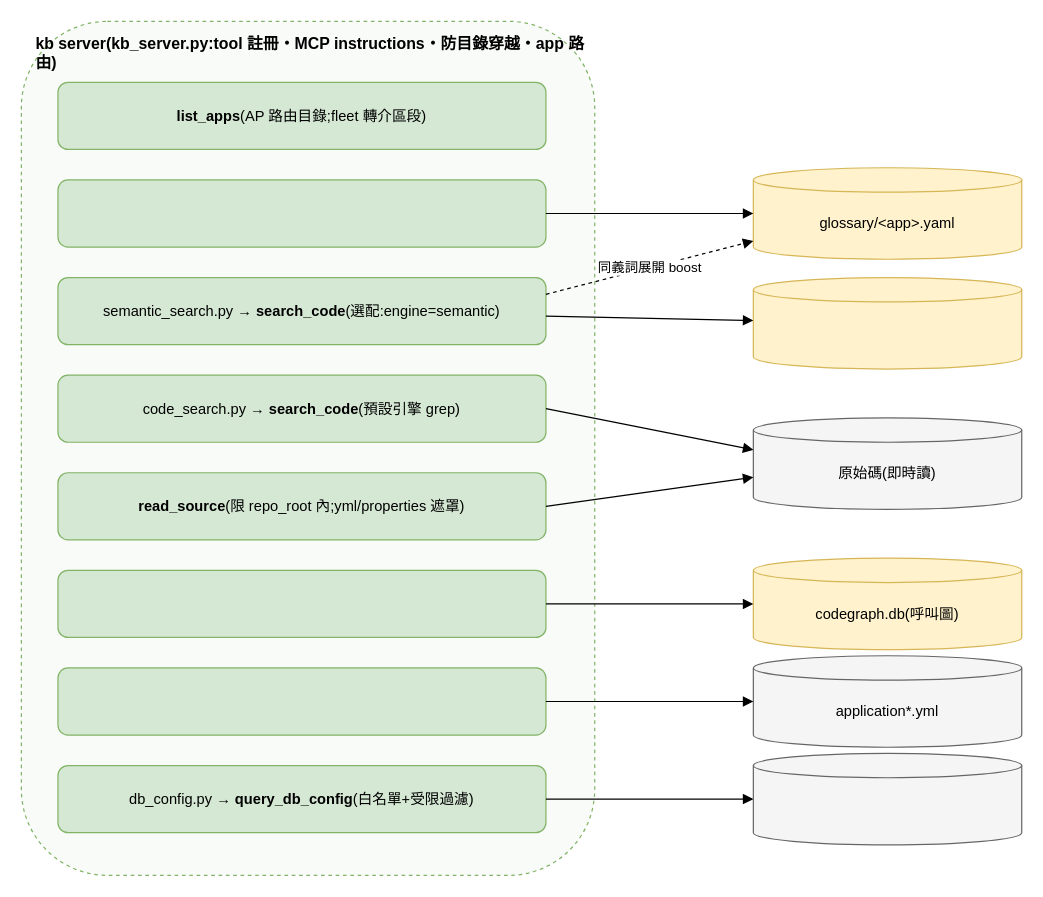
This 1043x897 diagram has some shape labels left out. The box of each missing label's shape, as (x1, y1, x2, y2) in pixels:
.semantic/<app>/(向量索引): (752, 276, 1022, 369)
app_config.py → get_app_config (敏感值遮罩): (57, 667, 546, 735)
DB 設定表: (752, 752, 1022, 845)
glossary.py → lookup_term: (57, 179, 546, 247)
graph_db.py → get_structure: (57, 569, 546, 637)
